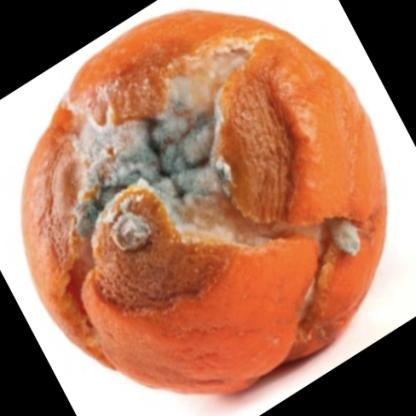rotten: (22, 13, 387, 395)
